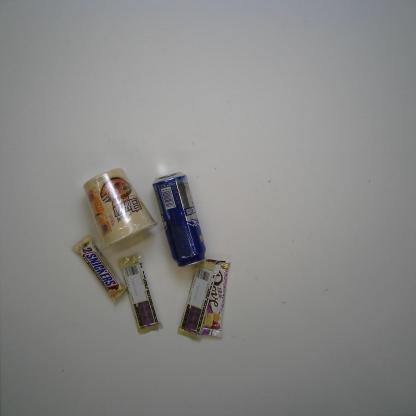Alcohol: (150, 169, 208, 270)
Chocolate: (69, 233, 131, 307), (175, 254, 223, 343), (116, 253, 163, 339), (201, 256, 234, 341)
Instant Noodles: (80, 164, 158, 254)
